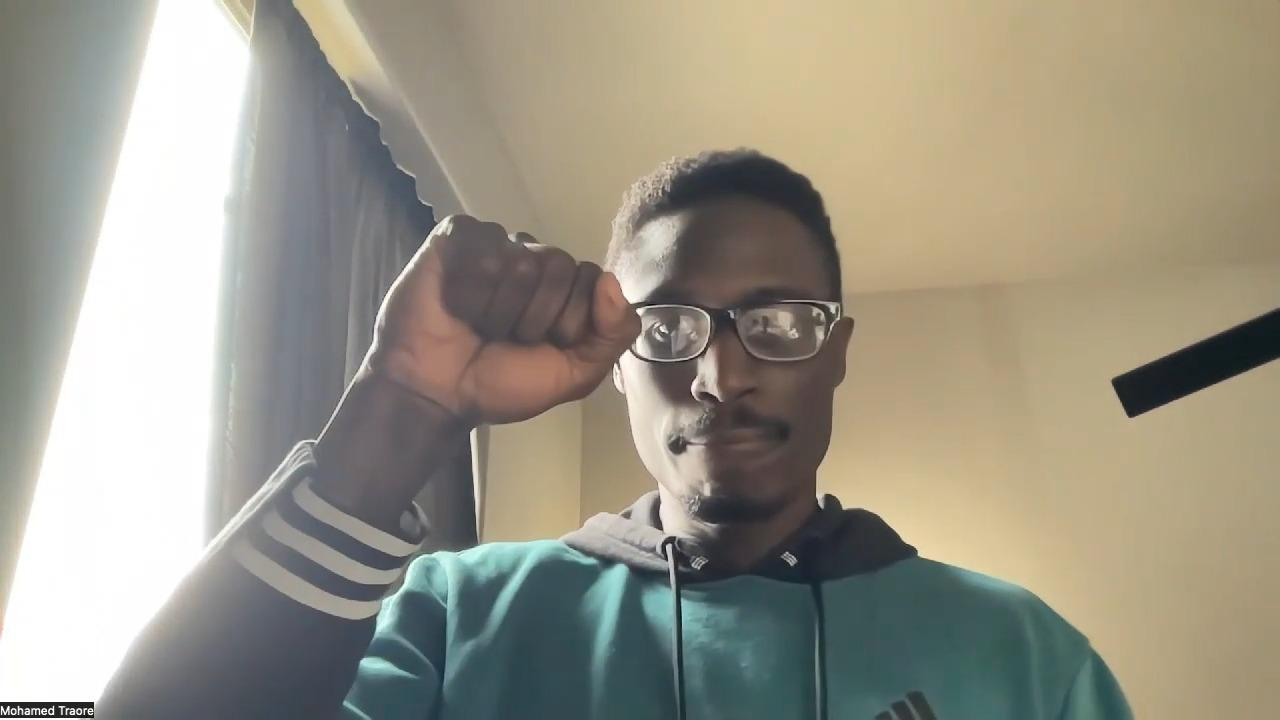Rock: (367, 215, 646, 423)
